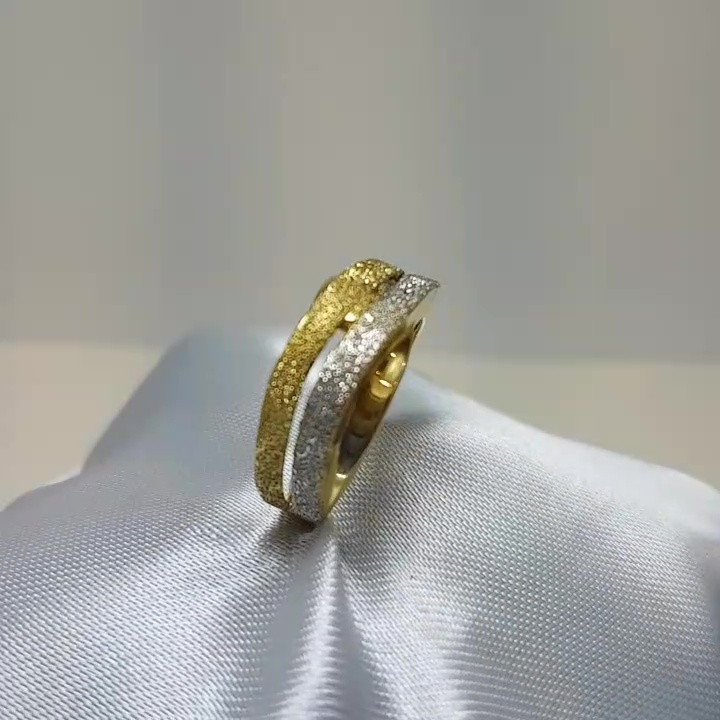Ring 5: (224, 255, 469, 536)
